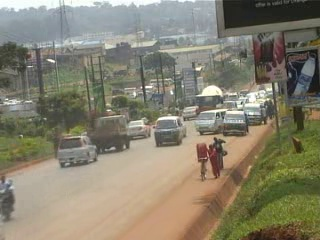Car: (54, 134, 100, 168), (127, 116, 153, 140), (180, 103, 201, 121)
Motorcycle: (0, 172, 17, 223)
